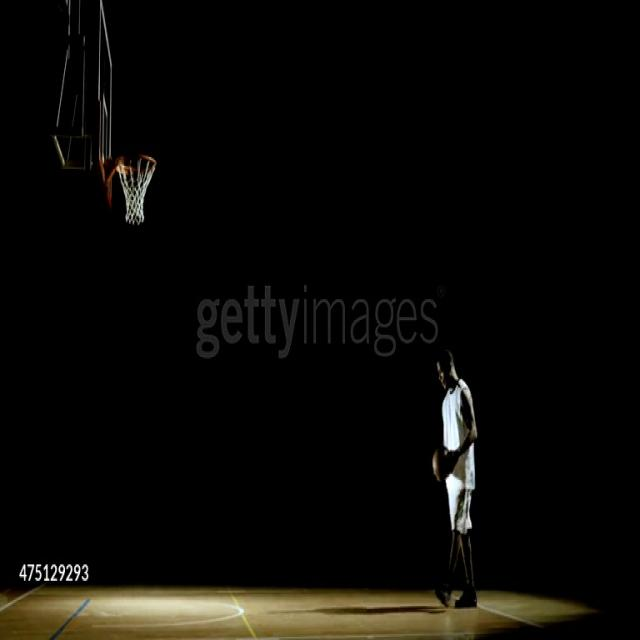ball: (432, 446, 452, 483)
